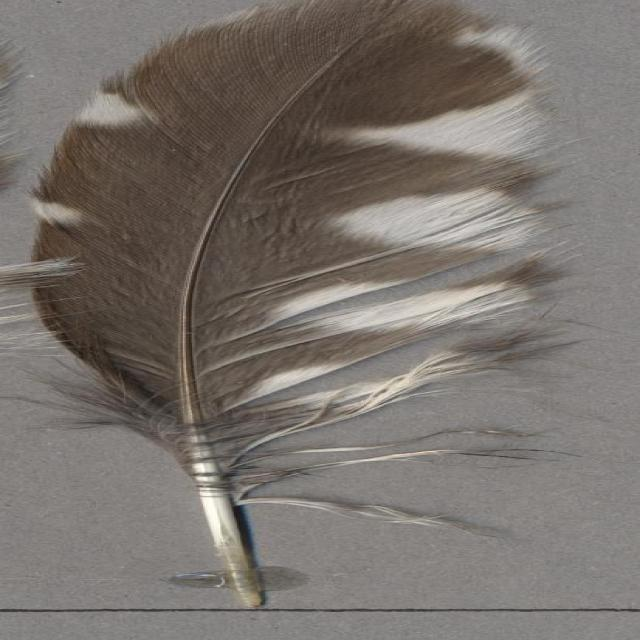feather: (42, 0, 600, 614)
